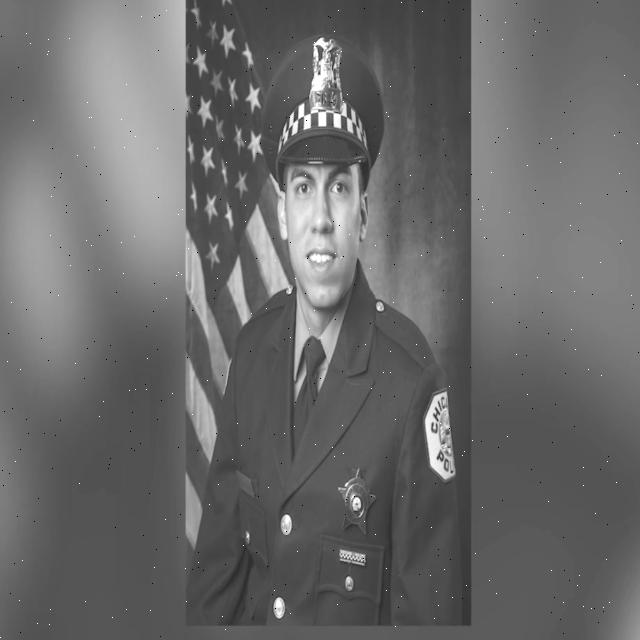police: (185, 31, 456, 640)
